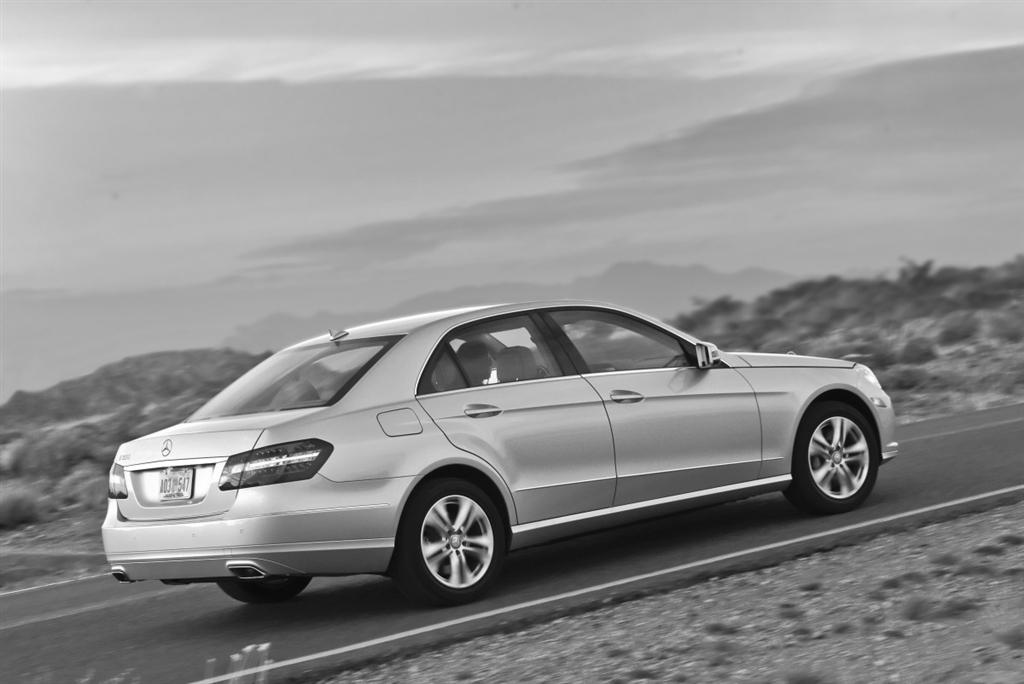car: (102, 298, 903, 609)
